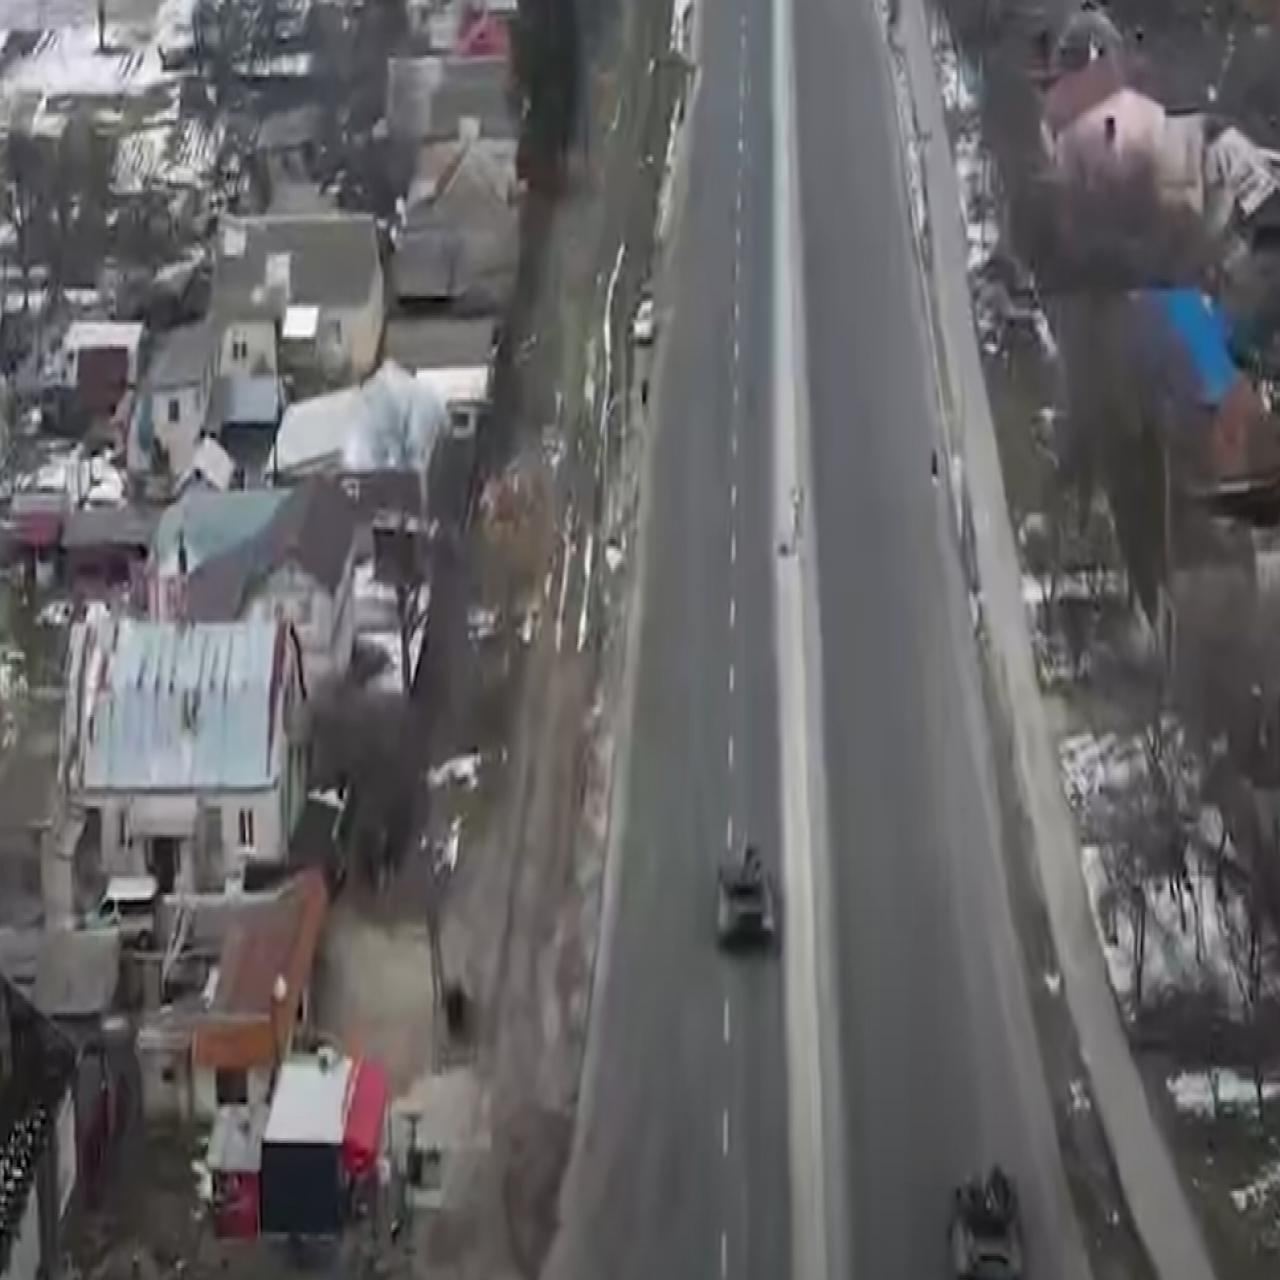MIL_Veh: (941, 1155, 1029, 1280), (700, 831, 777, 948)
